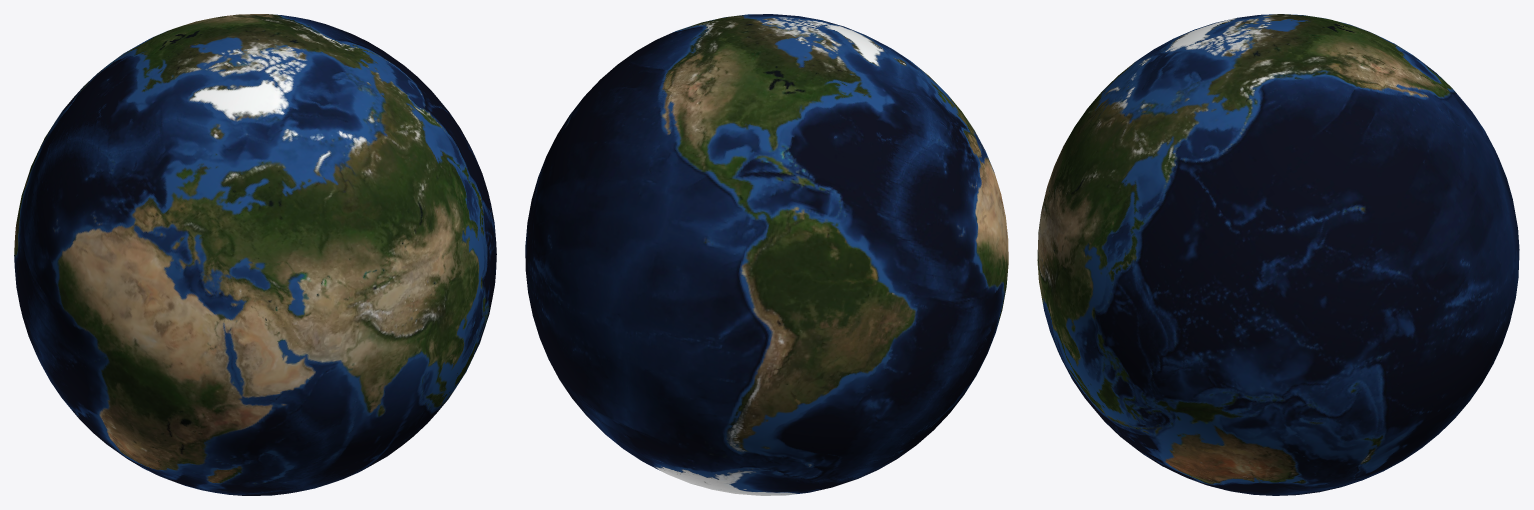
Rendered from EARTH.glb.
3 views of the same model, side by side, from view 1: azimuth 30°, elevation 25°; view 2: azimuth 150°, elevation 25°; view 3: azimuth 270°, elevation 25° (orthographic).
Parts seen in each view (by area): view 1: EARTH; view 2: EARTH; view 3: EARTH.
Boxes of the visible parts, x1,y1,x2,y2 form: EARTH: (14,14,496,495); EARTH: (525,14,1008,495); EARTH: (1037,14,1519,495).
Bounding box in the file's own units: 1.98 × 1.97 × 1.98.
Materials: 1 (1 with a texture image).
